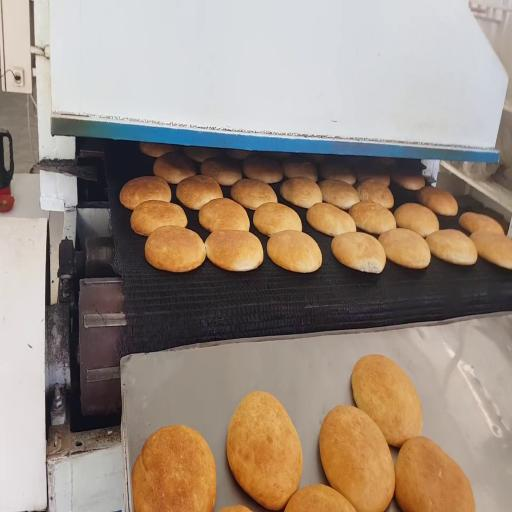bread: (227, 392, 302, 510), (320, 406, 394, 511), (132, 426, 216, 511), (352, 355, 422, 447), (395, 437, 475, 511), (145, 226, 205, 272), (205, 230, 263, 271), (267, 230, 322, 273), (332, 232, 386, 273), (379, 229, 430, 268), (131, 201, 187, 236), (426, 229, 477, 265), (285, 485, 355, 511), (120, 176, 171, 210), (199, 198, 249, 231), (253, 203, 302, 236), (176, 175, 222, 210), (307, 203, 355, 236), (349, 201, 396, 234), (394, 203, 439, 237), (471, 231, 511, 269), (231, 179, 277, 210), (154, 152, 196, 184), (280, 177, 322, 208), (319, 180, 359, 210), (356, 178, 394, 209), (243, 154, 283, 183), (201, 157, 241, 185), (419, 187, 457, 216), (459, 212, 504, 234), (283, 156, 317, 182), (321, 161, 355, 185), (391, 172, 425, 190), (356, 169, 390, 186), (184, 147, 220, 163), (140, 142, 175, 157), (261, 152, 291, 161), (226, 149, 250, 160), (307, 154, 330, 164), (378, 157, 396, 167), (220, 505, 250, 511)
